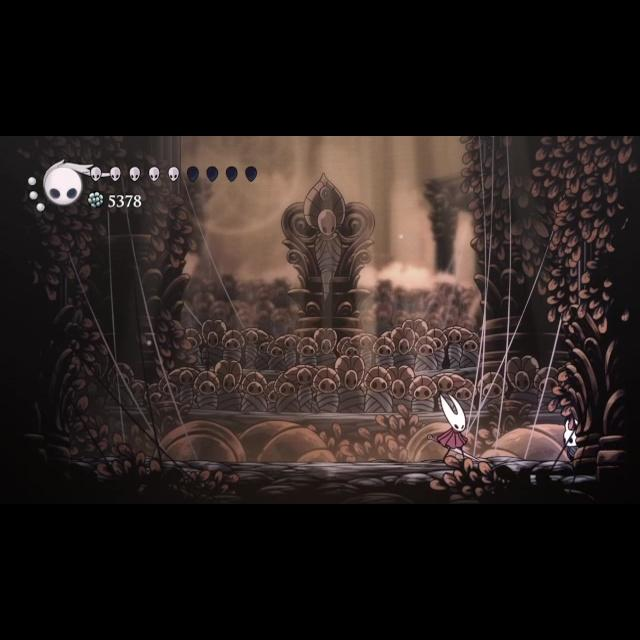Enemy: (424, 394, 488, 466)
Player: (558, 416, 588, 462)
